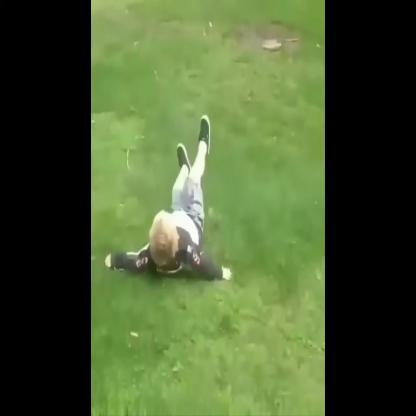Fall_Down: (106, 113, 233, 281)
